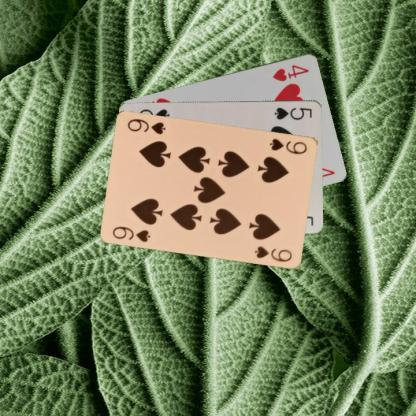4h: (270, 61, 310, 83)
5s: (272, 104, 313, 121)
9s: (267, 135, 308, 156), (110, 223, 152, 243)
